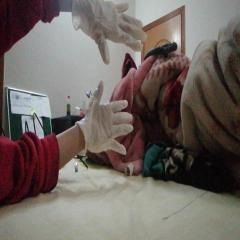gloved: (73, 0, 147, 64), (77, 82, 133, 154)
